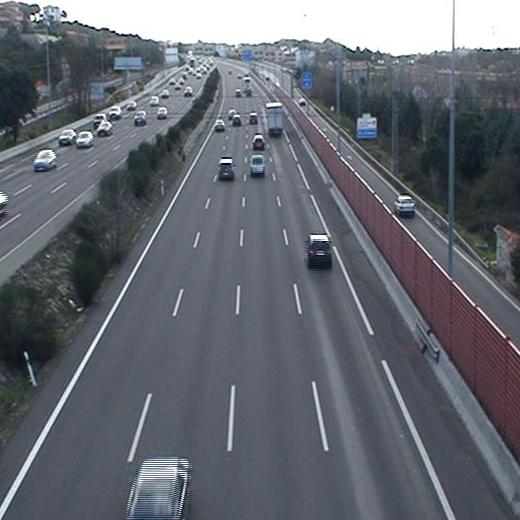car: (118, 452, 195, 520), (302, 231, 336, 271), (215, 155, 239, 185), (250, 132, 268, 151), (212, 116, 228, 132), (231, 113, 244, 128), (248, 111, 260, 124)
truck: (263, 100, 288, 142)
van: (246, 153, 268, 179)
